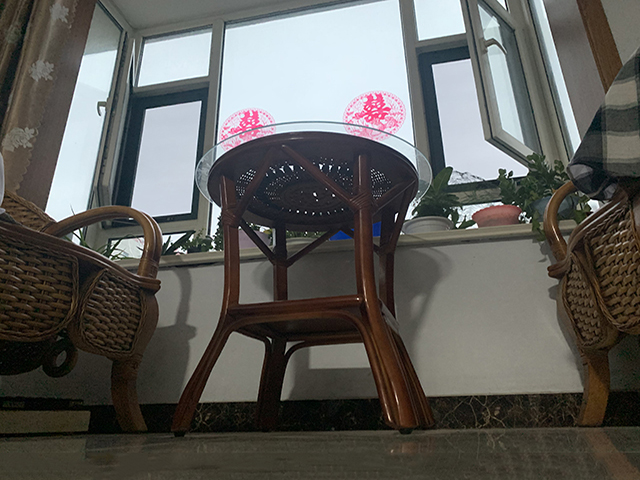stool: (1, 189, 164, 433)
table: (168, 118, 436, 438)
